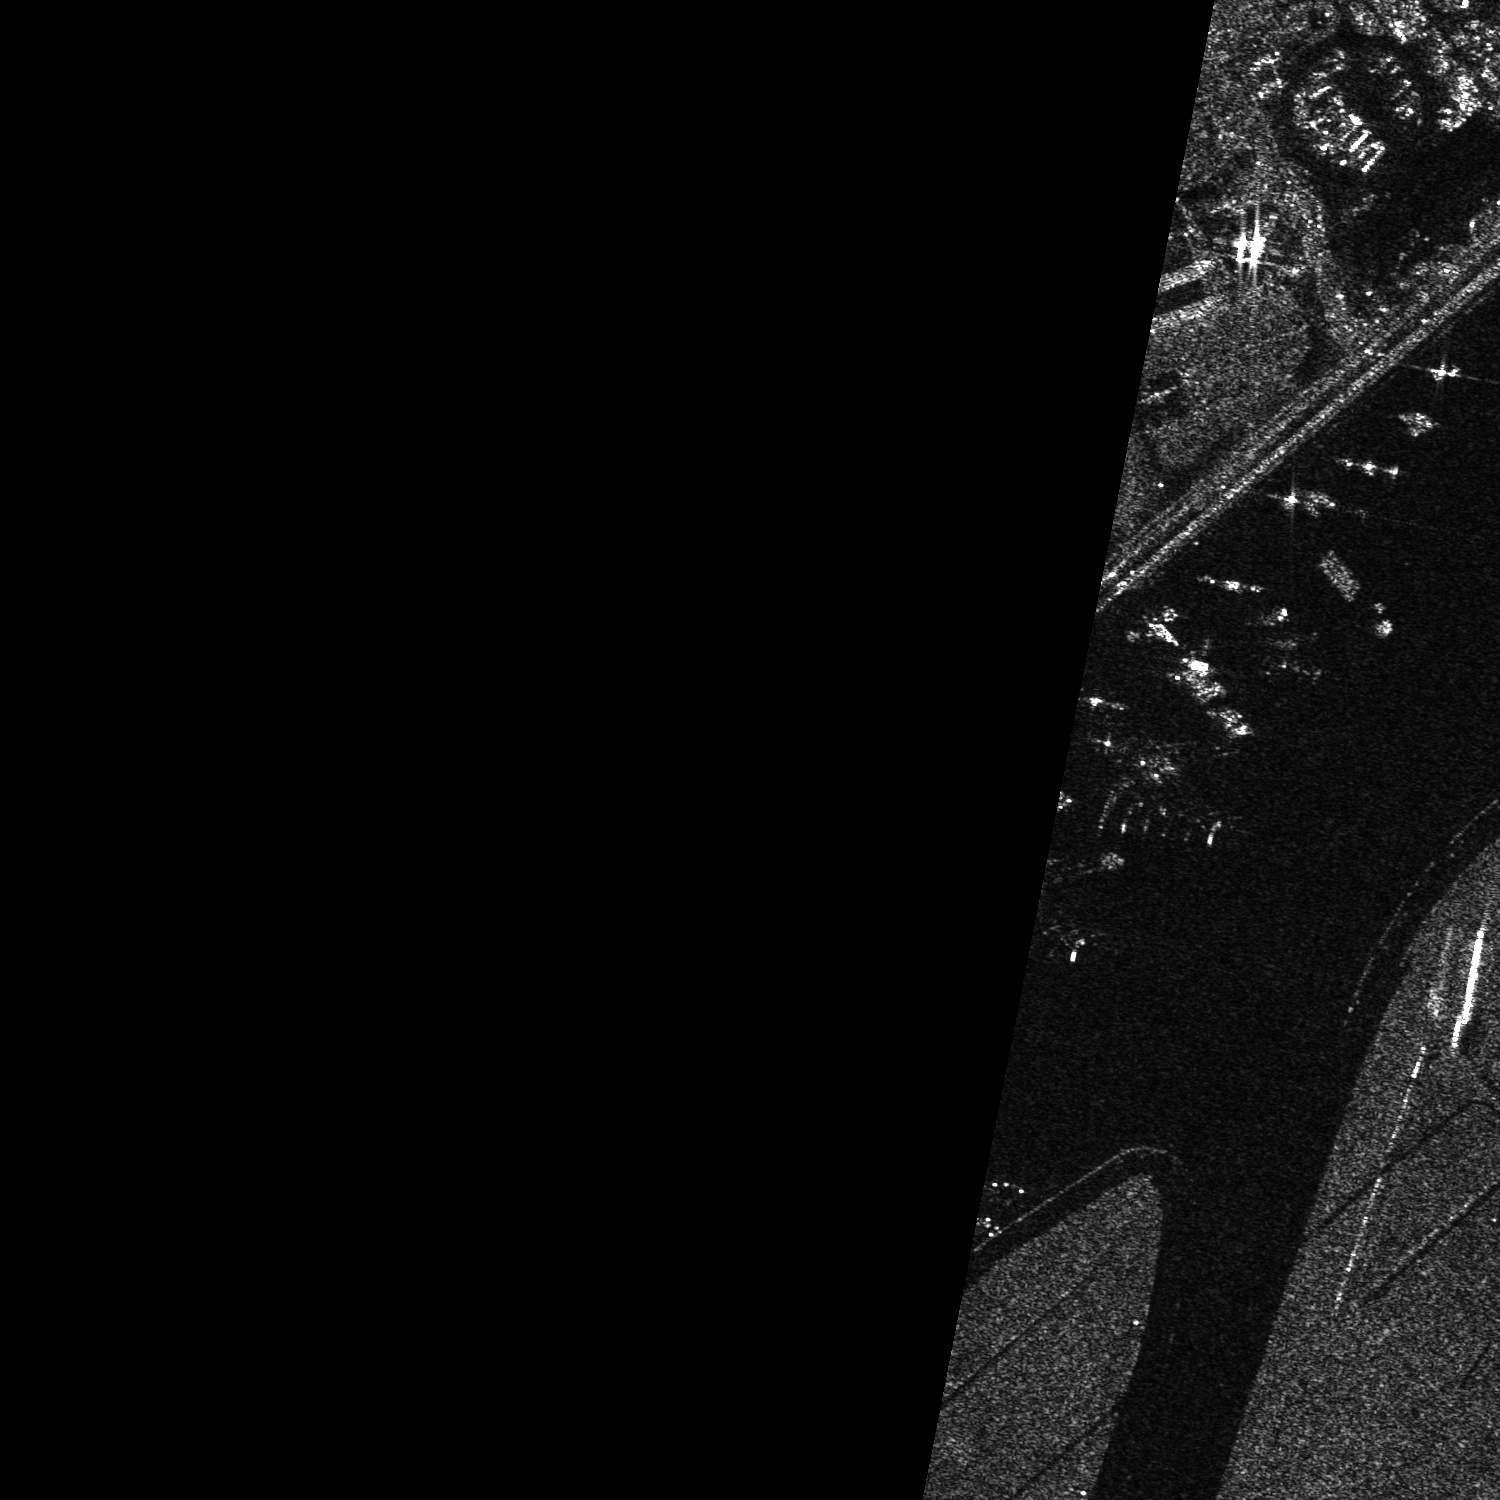Boeing787: (1095, 734, 1234, 848)
other: (1257, 609, 1331, 687)
